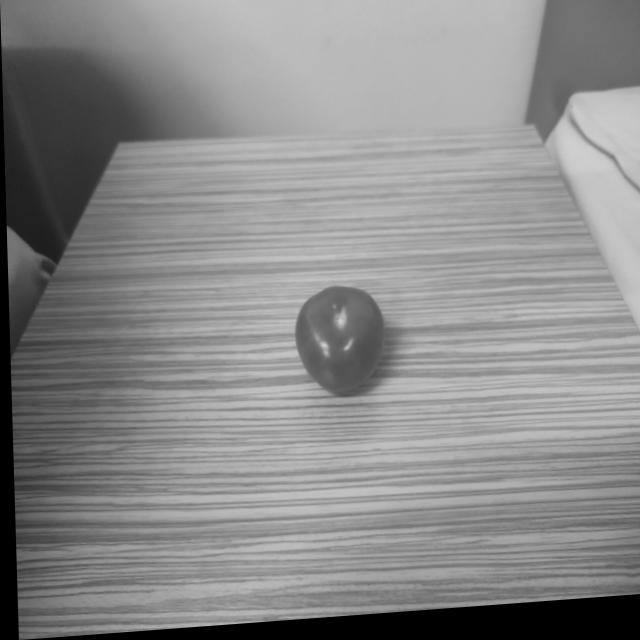sari: (285, 272, 395, 413)
